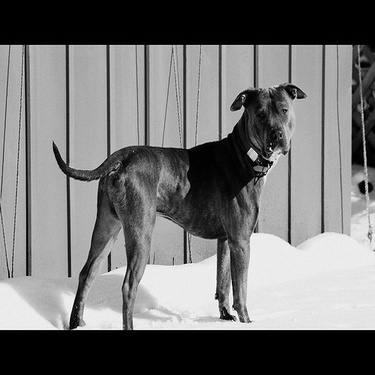dog: (42, 81, 303, 327)
